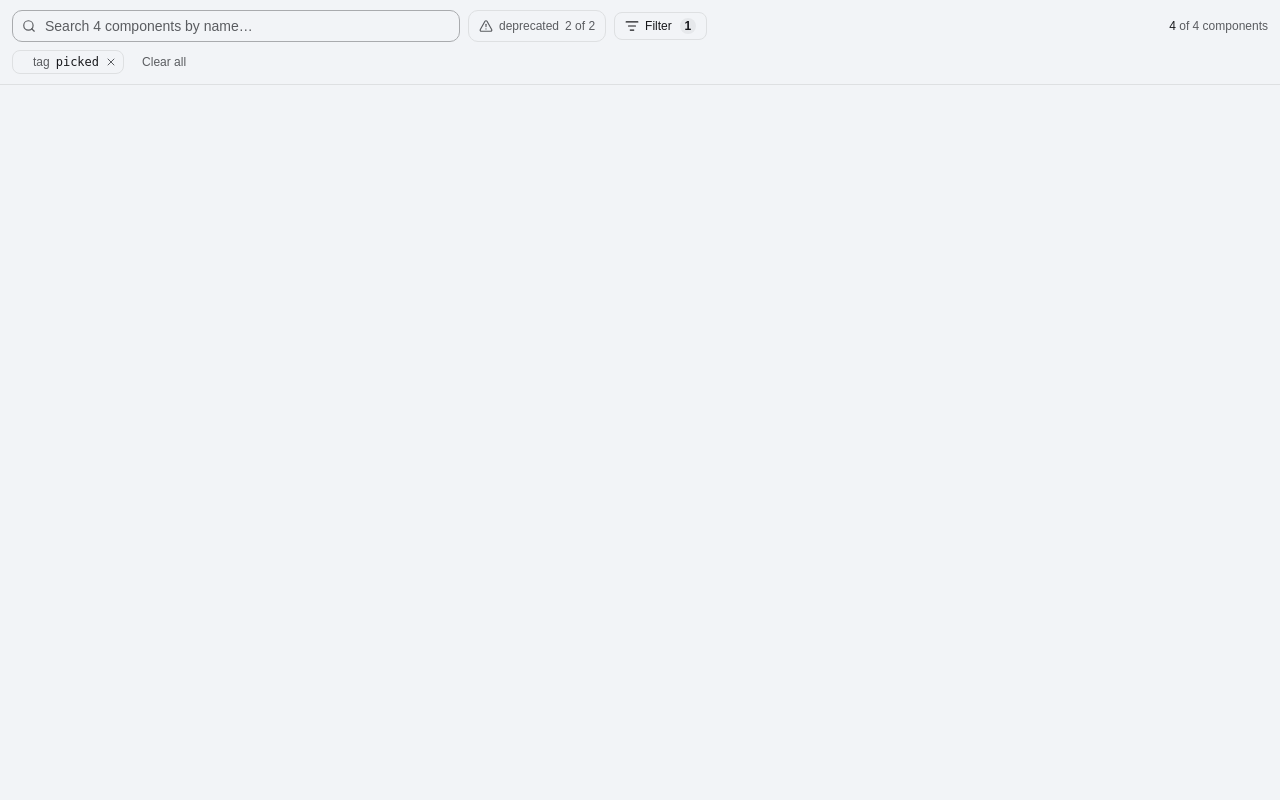
Test: the filter bar on the repo page › hides a tag the other filters leave at zero, and keeps a selected one visible at 0
The image size is (1280, 800).
Click the button "Filter 1" at (660, 26), box [614,12,707,40]
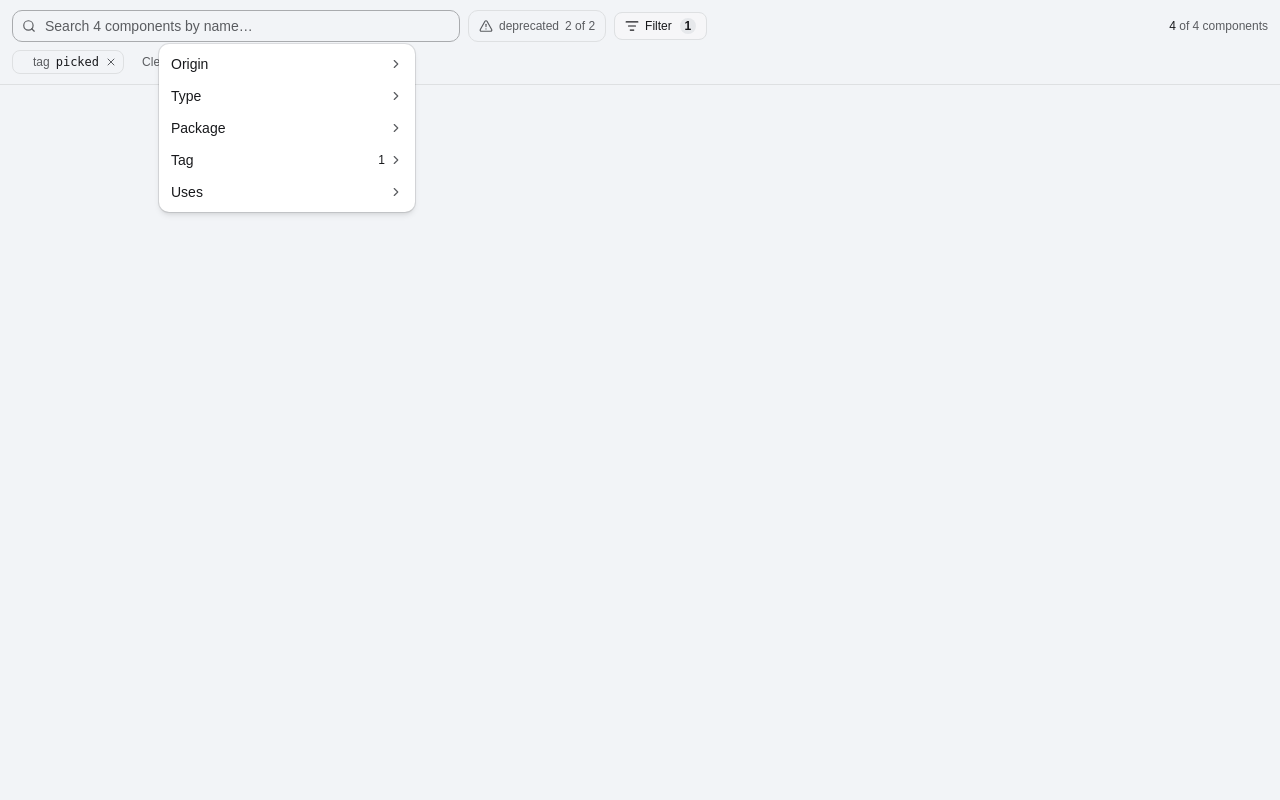
Click the button "Tag 1" at (287, 160), box [159,144,415,176]
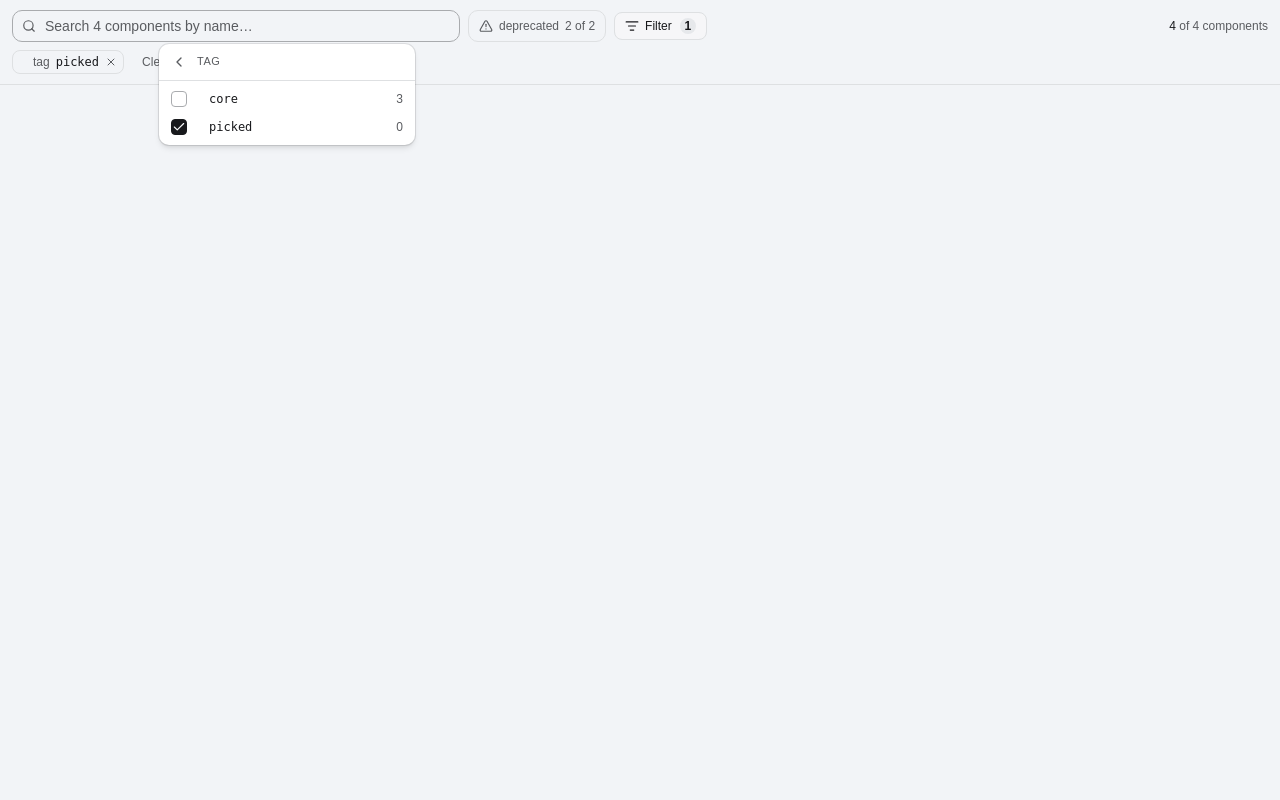
Check: the button "core 3" is shown, box [159,85,415,113]
Check: the button "picked 0" is shown, box [159,113,415,141]
